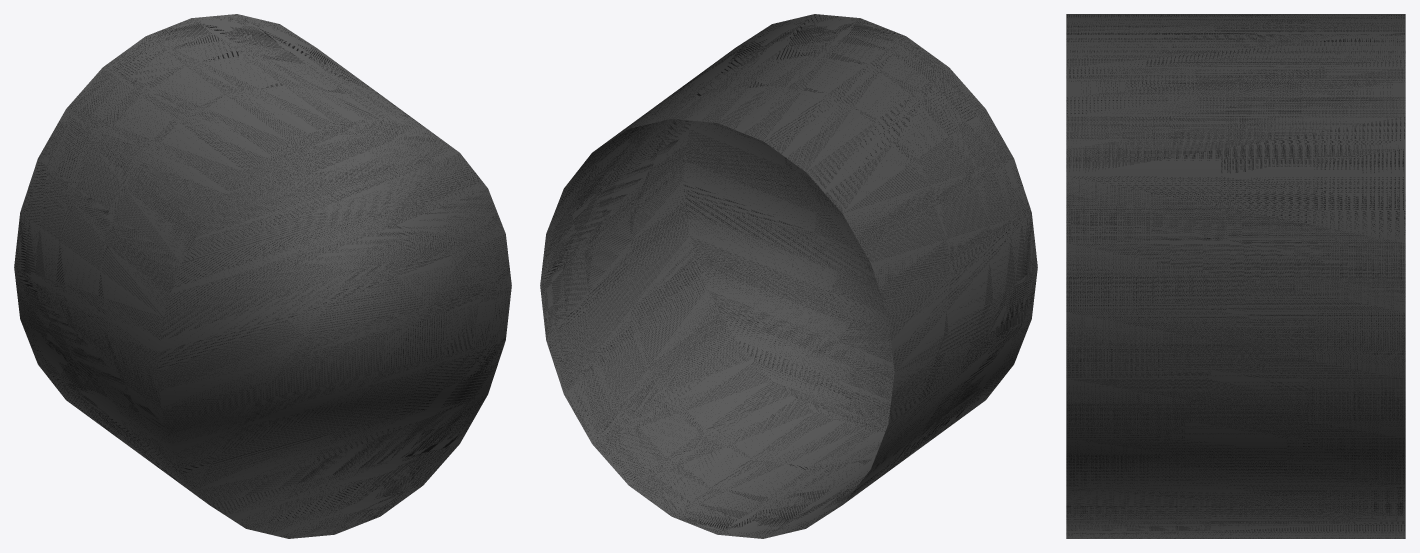
File: original-100.obj
3 views of the same model, side by side, from view 1: azimuth 30°, elevation 25°; view 2: azimuth 150°, elevation 25°; view 3: azimuth 270°, elevation 25° (orthographic). The views are drawn at different scales.
Parts seen in each view (by area): view 1: mesh26/mesh26-geometry/material_6/component_0#mesh26-geometry; view 2: mesh26/mesh26-geometry/material_6/component_0#mesh26-geometry; view 3: mesh26/mesh26-geometry/material_6/component_0#mesh26-geometry.
Part boxes in pixels (left/top/right/bottom): mesh26/mesh26-geometry/material_6/component_0#mesh26-geometry: left=14, top=14, right=511, bottom=538; mesh26/mesh26-geometry/material_6/component_0#mesh26-geometry: left=540, top=14, right=1037, bottom=538; mesh26/mesh26-geometry/material_6/component_0#mesh26-geometry: left=1066, top=14, right=1405, bottom=538.
Bounding box in the file's own units: 0.0193 × 0.0214 × 0.0135.
